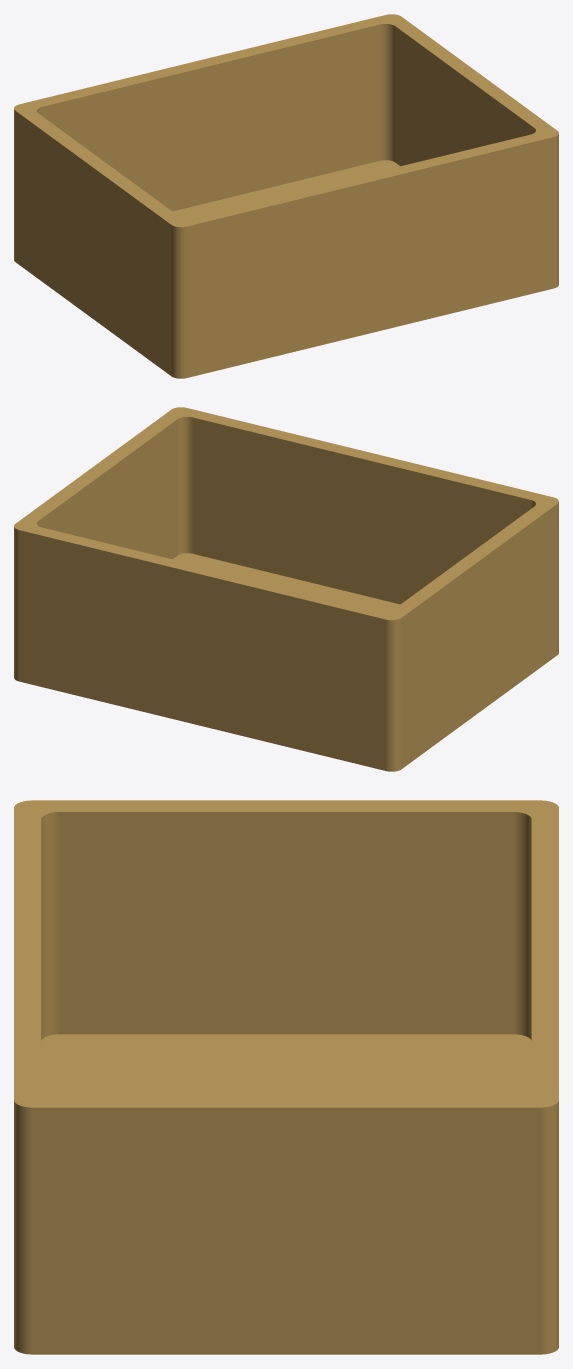
Rendered from filleted-enclosure.glb.
3 renders of one model, top to bottom at view 1: azimuth 30°, elevation 25°; view 2: azimuth 150°, elevation 25°; view 3: azimuth 270°, elevation 25°, orthographic. The views are drawn at different scales.
Visible parts, largest first — view 1: Inside & outside fillets · R2; view 2: Inside & outside fillets · R2; view 3: Inside & outside fillets · R2.
Boxes of the visible parts, left/top/right/bottom form: Inside & outside fillets · R2: left=14, top=14, right=558, bottom=378; Inside & outside fillets · R2: left=14, top=407, right=558, bottom=771; Inside & outside fillets · R2: left=14, top=800, right=558, bottom=1354.
Size of the model in its own units: 0.08 by 0.03 by 0.06.
